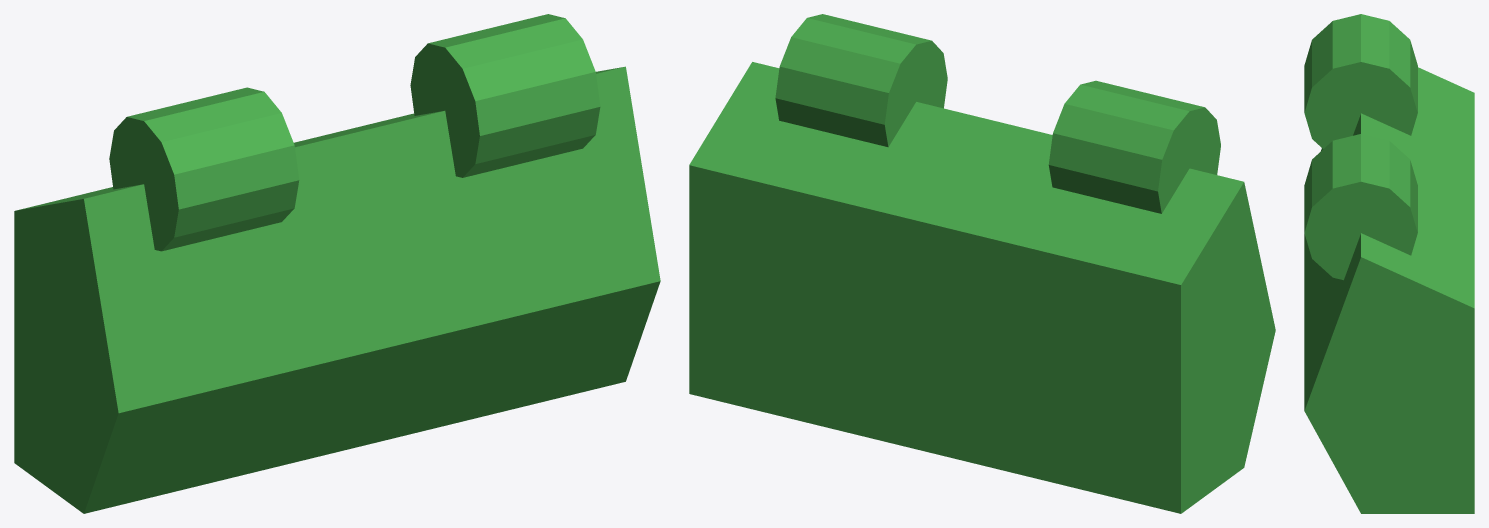
Rendered from Colorfull Bazooka - Ammo.obj.
3 views of the same model, side by side, from view 1: azimuth 30°, elevation 25°; view 2: azimuth 150°, elevation 25°; view 3: azimuth 270°, elevation 25° (orthographic). The views are drawn at different scales.
Visible parts, largest first — view 1: group168758296, group842489828, group1849940737; view 2: group168758296, group842489828, group1849940737; view 3: group168758296, group842489828, group1849940737.
Part boxes in pixels (x1=…): group168758296: x1=14, y1=66, x2=660, y2=513; group842489828: x1=410, y1=14, x2=600, y2=177; group1849940737: x1=109, y1=87, x2=299, y2=251; group168758296: x1=689, y1=62, x2=1275, y2=513; group842489828: x1=775, y1=14, x2=947, y2=147; group1849940737: x1=1048, y1=80, x2=1220, y2=213; group168758296: x1=1304, y1=67, x2=1474, y2=513; group842489828: x1=1304, y1=134, x2=1417, y2=280; group1849940737: x1=1304, y1=14, x2=1417, y2=148.
Size of the model in its own units: 0.09 by 0.06 by 0.03.
